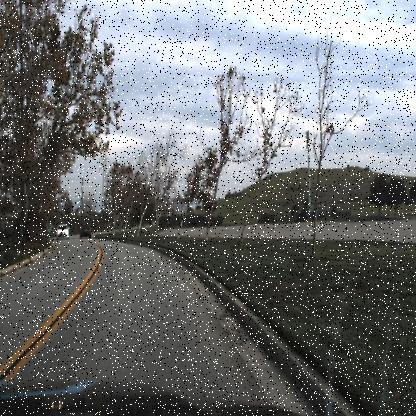car: (77, 222, 94, 242), (55, 224, 71, 240)
